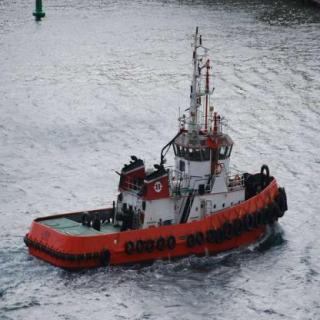Tug Boat: (17, 26, 292, 269)
